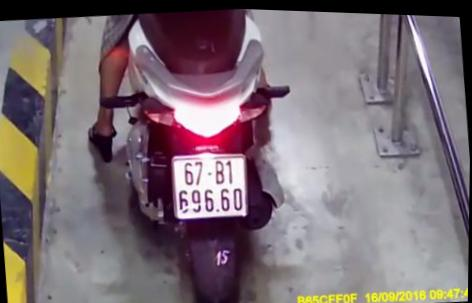LP: (168, 146, 252, 220)
